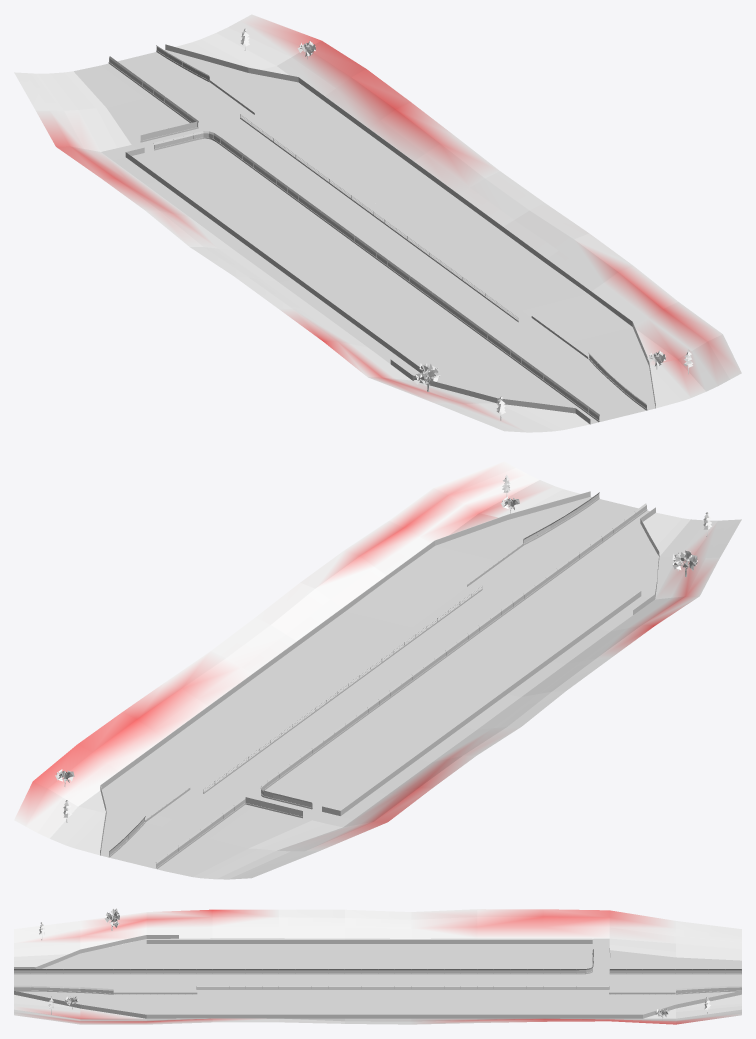
The picture shows the model from 3 angles, top to bottom: view 1: azimuth 30°, elevation 25°; view 2: azimuth 150°, elevation 25°; view 3: azimuth 270°, elevation 25°; orthographic projection. The views are drawn at different scales.
Parts seen in each view (by area): view 1: Track, Grass, Road, Wirefence, Trees; view 2: Track, Grass, Road, Wirefence, Trees; view 3: Track, Grass, Road, Wirefence, Trees.
Boxes of the visible parts, x1,y1,x2,y2 form: Track: [74, 44, 655, 424]; Grass: [14, 14, 741, 432]; Road: [101, 52, 646, 421]; Wirefence: [109, 45, 646, 420]; Trees: [240, 28, 692, 420]; Track: [100, 491, 659, 876]; Grass: [14, 461, 741, 879]; Road: [109, 499, 648, 868]; Wirefence: [109, 492, 646, 867]; Trees: [55, 475, 711, 822]; Track: [14, 935, 741, 1018]; Grass: [14, 909, 741, 1024]; Road: [14, 938, 741, 994]; Wirefence: [14, 949, 741, 994]; Trees: [39, 908, 710, 1020].
Size of what is drawn, in the model's own units: 18296 by 2065 by 50000.
